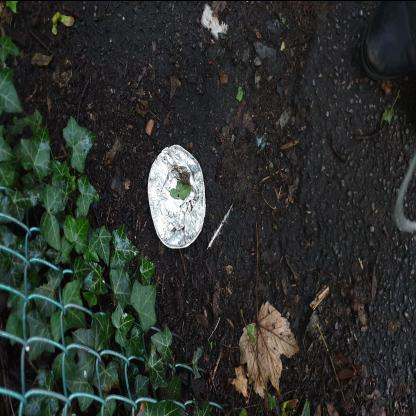metal: (148, 142, 206, 248)
